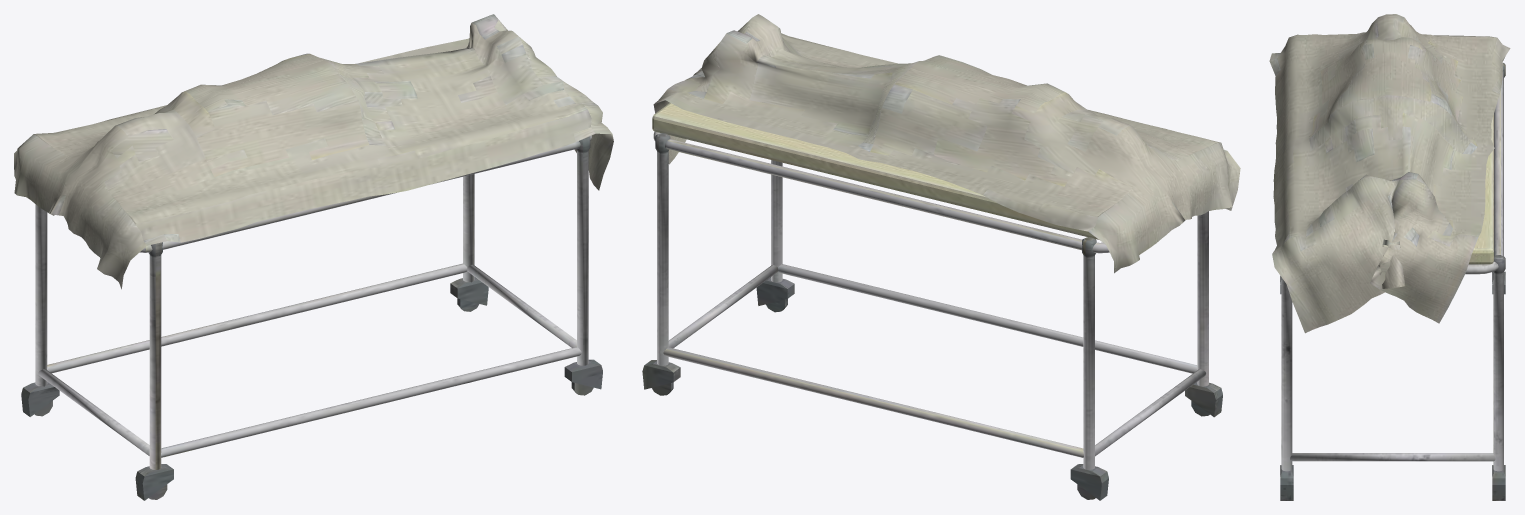
The model's file is stretcher-hospital.glb.
3 renders of one model, left to right at view 1: azimuth 30°, elevation 25°; view 2: azimuth 150°, elevation 25°; view 3: azimuth 270°, elevation 25°, orthographic. The views are drawn at different scales.
Parts seen in each view (by area): view 1: Maca; view 2: Maca; view 3: Maca.
Boxes of the visible parts, x1,y1,x2,y2 form: Maca: [14, 14, 613, 500]; Maca: [642, 14, 1240, 500]; Maca: [1269, 14, 1510, 500].
Size of the model in its own units: 1.41 by 0.9 by 0.6266.
Materials: 3 (3 with a texture image).
